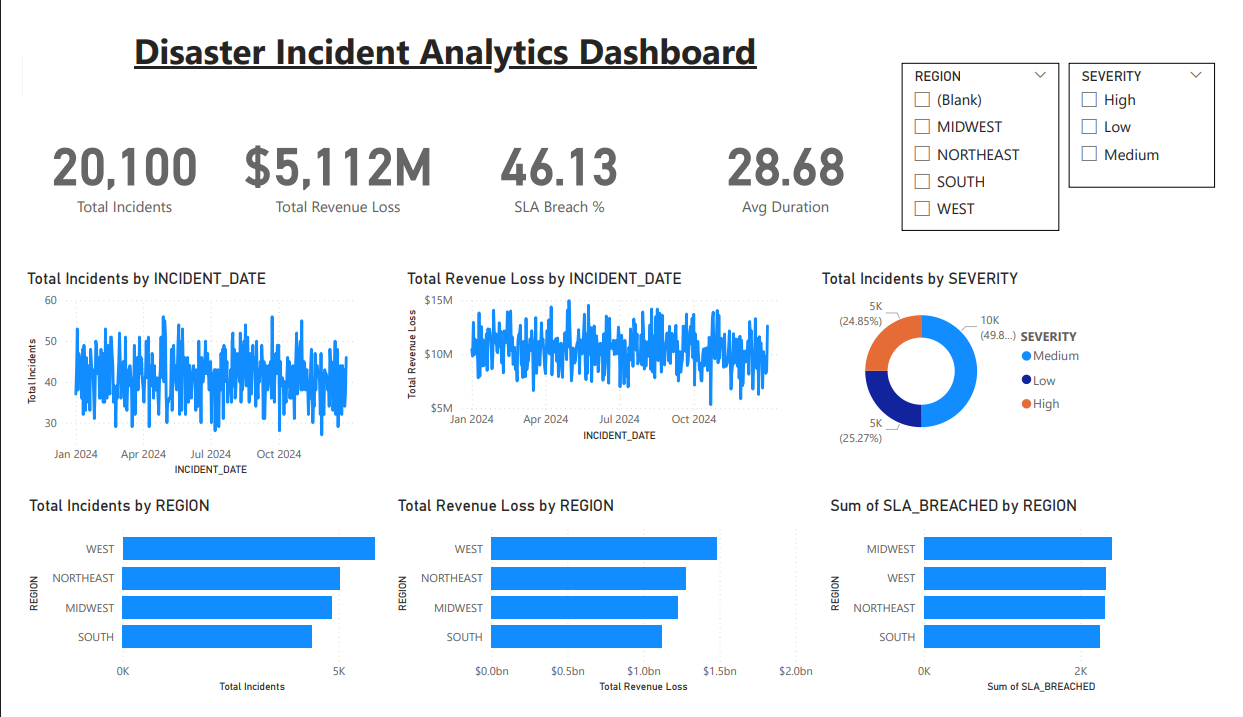

The dashboard page shown, as its layout file describes it:
{"tool":"powerbi","page":{"name":"Page 1","canvas":[1280,720],"ordinal":0},"visuals":[{"type":"card","title":"Total Incidents","fields":{"Values":["FACT_INCIDENTS.Total Incidents"]},"box":[0,79.5,217.7,159],"z":0},{"type":"card","fields":{"Values":["FACT_INCIDENTS.Total Revenue Loss"]},"box":[217.7,79.5,237.2,159],"z":1000},{"type":"card","fields":{"Values":["FACT_INCIDENTS.SLA Breach %"]},"box":[454.9,79.5,234.8,159],"z":2000},{"type":"card","fields":{"Values":["FACT_INCIDENTS.Avg Duration"]},"box":[689.7,79.5,247,159],"z":3000},{"type":"lineChart","fields":{"Category":["DIM_DATE.INCIDENT_DATE"],"Y":["FACT_INCIDENTS.Total Incidents"]},"box":[0,264.1,374.2,225],"z":4000},{"type":"lineChart","fields":{"Category":["DIM_DATE.INCIDENT_DATE"],"Y":["FACT_INCIDENTS.Total Revenue Loss"]},"box":[404.8,264.1,418.2,188.3],"z":5000},{"type":"clusteredBarChart","fields":{"Category":["DIM_REGION.REGION"],"Y":["FACT_INCIDENTS.Total Incidents"]},"box":[2.4,505,392.5,215.2],"z":6000},{"type":"clusteredBarChart","fields":{"Category":["DIM_REGION.REGION"],"Y":["FACT_INCIDENTS.Total Revenue Loss"]},"box":[395,505,452.4,215.2],"z":7000},{"type":"donutChart","fields":{"Category":["FACT_INCIDENTS.SEVERITY"],"Y":["FACT_INCIDENTS.Total Incidents"]},"box":[847.4,264.1,299.6,198.1],"z":8000},{"type":"barChart","fields":{"Category":["FACT_INCIDENTS.REGION"],"Y":["Sum(FACT_INCIDENTS.SLA_BREACHED)"]},"box":[856,505,366.8,215.2],"z":9000},{"type":"slicer","fields":{"Values":["DIM_REGION.REGION"]},"box":[946.5,44,168.8,178.5],"z":10000},{"type":"slicer","fields":{"Values":["FACT_INCIDENTS.SEVERITY"]},"box":[1125,44,155.3,133.3],"z":11000},{"type":"textbox","box":[2.4,0,896.3,56.3],"z":11001}]}

Visuals, with their boxes in screenshot pixels (x1, y1, x2, y2), scaled from the page's 1280x720 canvas onto the 1243x717 screenshot:
"Total Incidents" card: (0, 79, 211, 238)
card - FACT_INCIDENTS.Total Revenue Loss: (211, 79, 442, 238)
card - FACT_INCIDENTS.SLA Breach %: (442, 79, 670, 238)
card - FACT_INCIDENTS.Avg Duration: (670, 79, 910, 238)
lineChart - DIM_DATE.INCIDENT_DATE x FACT_INCIDENTS.Total Incidents: (0, 263, 363, 487)
lineChart - DIM_DATE.INCIDENT_DATE x FACT_INCIDENTS.Total Revenue Loss: (393, 263, 799, 451)
clusteredBarChart - DIM_REGION.REGION x FACT_INCIDENTS.Total Incidents: (2, 503, 383, 716)
clusteredBarChart - DIM_REGION.REGION x FACT_INCIDENTS.Total Revenue Loss: (384, 503, 823, 716)
donutChart - FACT_INCIDENTS.SEVERITY x FACT_INCIDENTS.Total Incidents: (823, 263, 1114, 460)
barChart - FACT_INCIDENTS.REGION x Sum(FACT_INCIDENTS.SLA_BREACHED): (831, 503, 1187, 716)
slicer - DIM_REGION.REGION: (919, 44, 1083, 222)
slicer - FACT_INCIDENTS.SEVERITY: (1092, 44, 1242, 177)
textbox: (2, 0, 873, 56)
